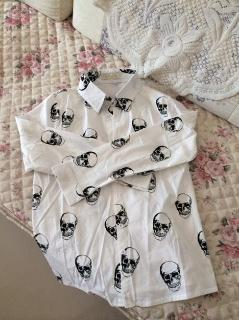long sleeve top: (15, 68, 219, 308)
